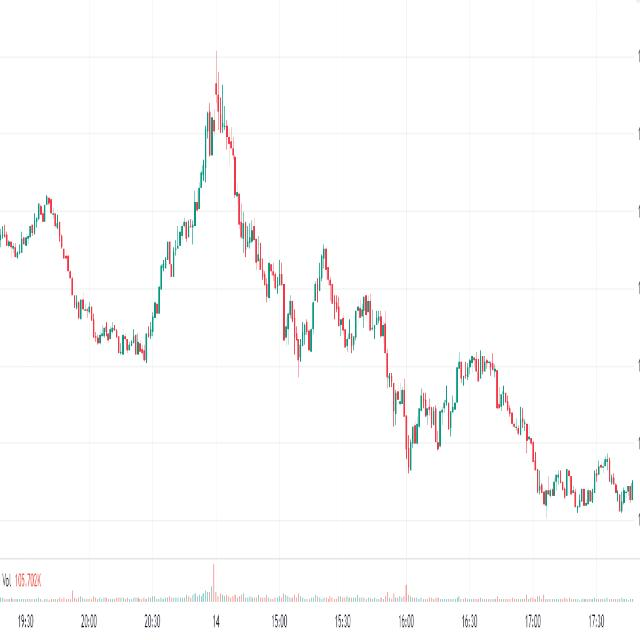Head-Shoulders: (16, 47, 351, 400)
Inverse-Head-Shoulders: (374, 288, 462, 488)
Rounding-Bottom: (39, 180, 190, 376)
Rounding-Top: (406, 335, 550, 539)
